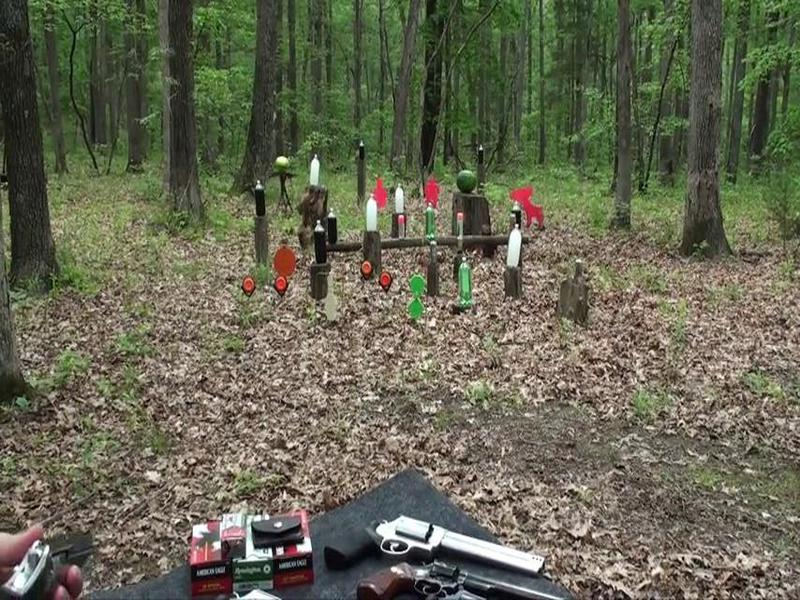Revolver: (318, 499, 552, 571)
